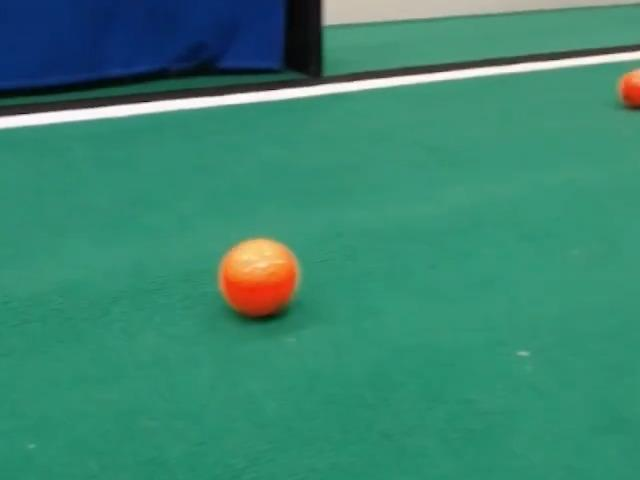Ball: (218, 238, 299, 317), (618, 69, 639, 108)
